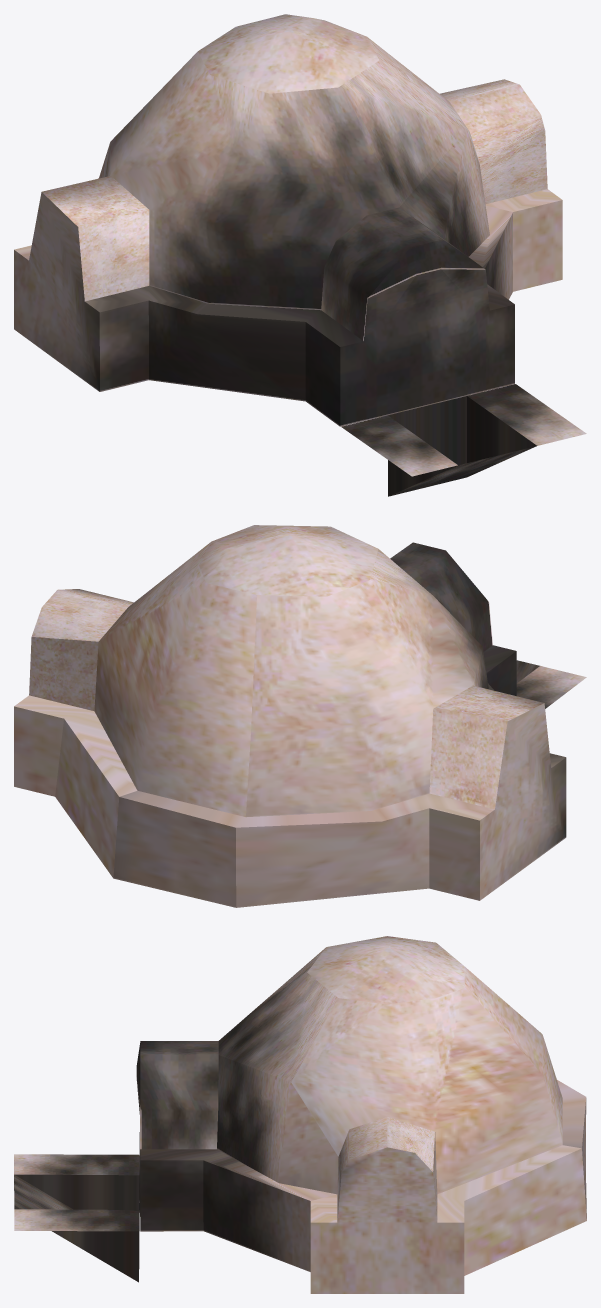
Rendered from thm_tato_luke_farm_dome_l3.fbx.
3 renders of one model, top to bottom at view 1: azimuth 30°, elevation 25°; view 2: azimuth 150°, elevation 25°; view 3: azimuth 270°, elevation 25°, orthographic. The views are drawn at different scales.
Parts seen in each view (by area): view 1: mesh_node; view 2: mesh_node; view 3: mesh_node.
Part boxes in pixels (x1,y1,x2,y2): mesh_node: [14, 14, 586, 496]; mesh_node: [14, 525, 586, 907]; mesh_node: [14, 936, 586, 1293].
Size of the model in its own units: 6.7 by 4.91 by 8.03.
